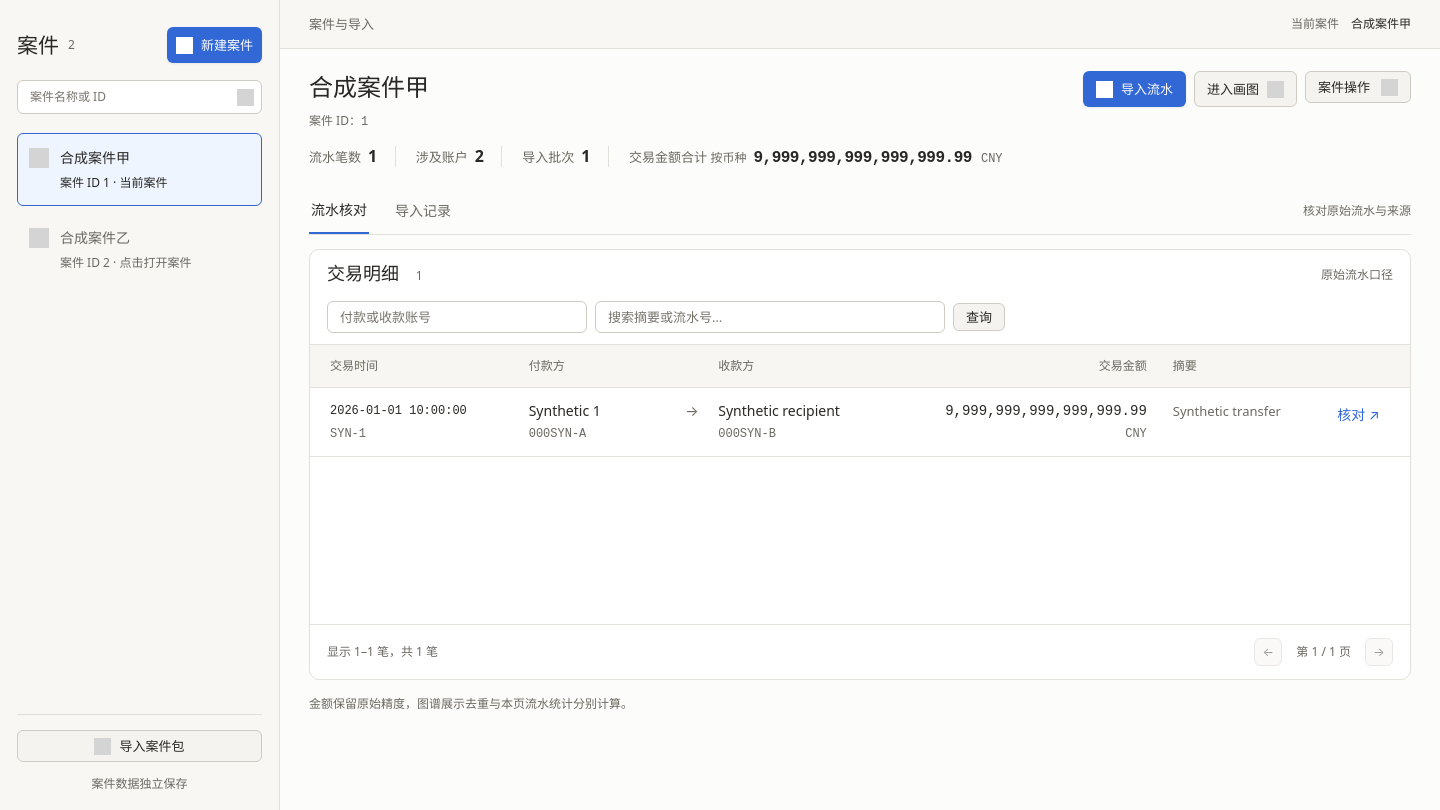
FundsTrace case workspace › executes a free case keyword with its SVG button while IME draft input never filters or opens a case
Expected: the button with aria-label "核对流水 SYN-1" is shown, x1=1335 y1=401 x2=1382 y2=429
Type "乙" into the dropdown named "筛选案件" at (124, 97), box x1=18 y1=81 x2=229 y2=113
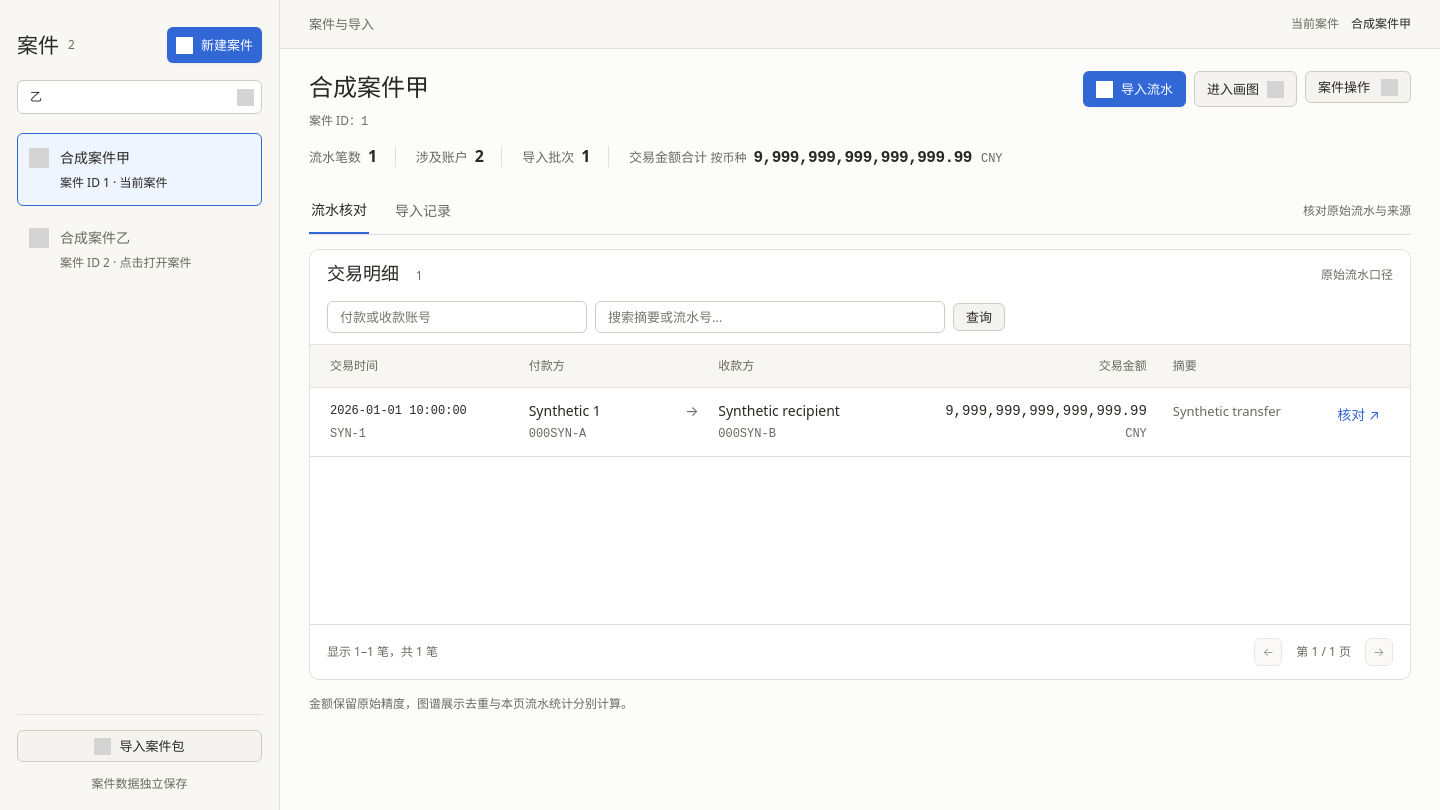
Submit the form named "筛选案件", box x1=17 y1=80 x2=262 y2=114
Expected: the button "合成案件甲 案件 ID 1 · 当前案件" is shown, x1=17 y1=133 x2=262 y2=206
Click the button named "查询案件" at (245, 97), box x1=229 y1=81 x2=261 y2=113
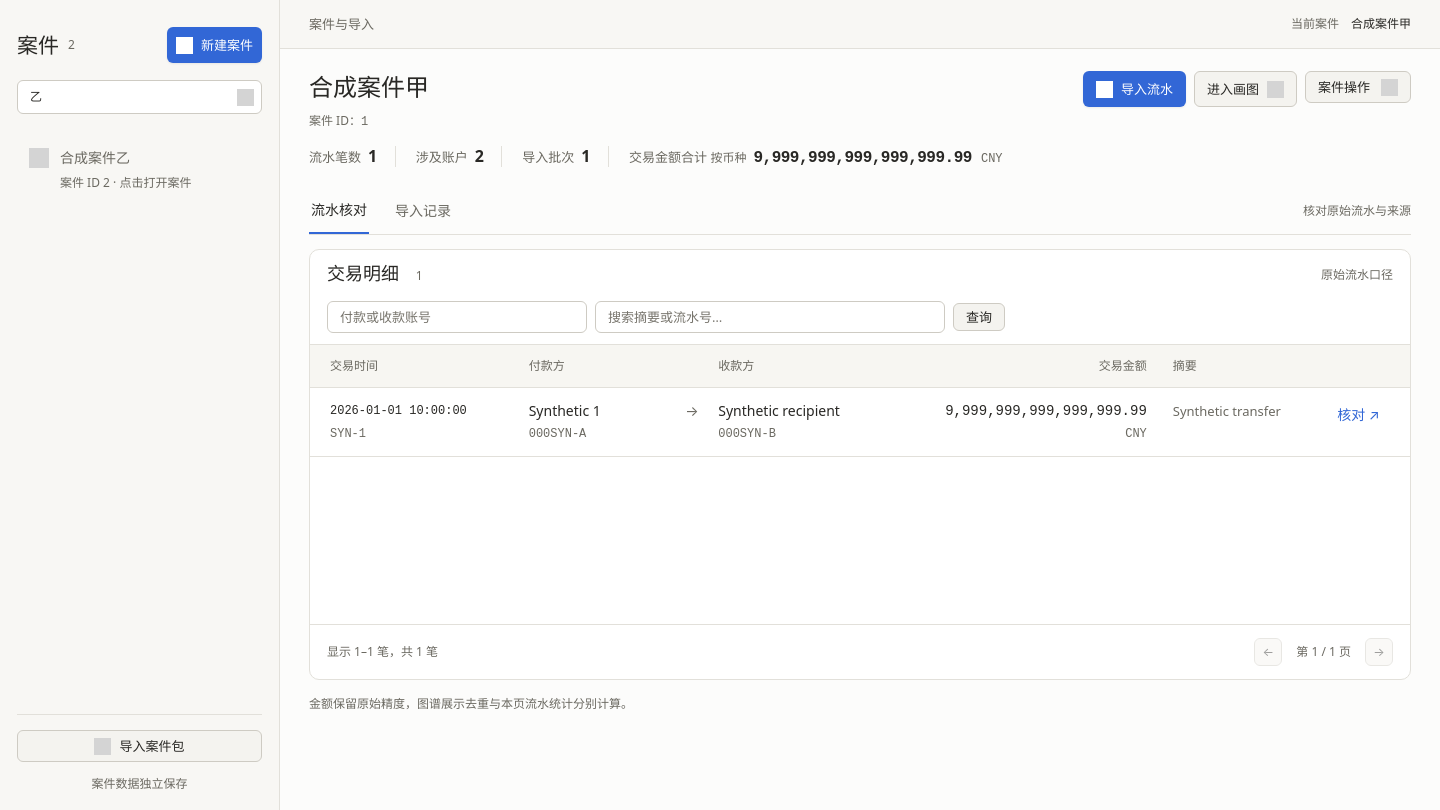
Expected: the button "合成案件乙 案件 ID 2 · 点击打开案件" is shown, x1=17 y1=133 x2=262 y2=206
Expected: the button with aria-label "核对流水 SYN-1" is shown, x1=1335 y1=401 x2=1382 y2=429
Click the button "新建案件" at (214, 45), box x1=167 y1=27 x2=262 y2=63
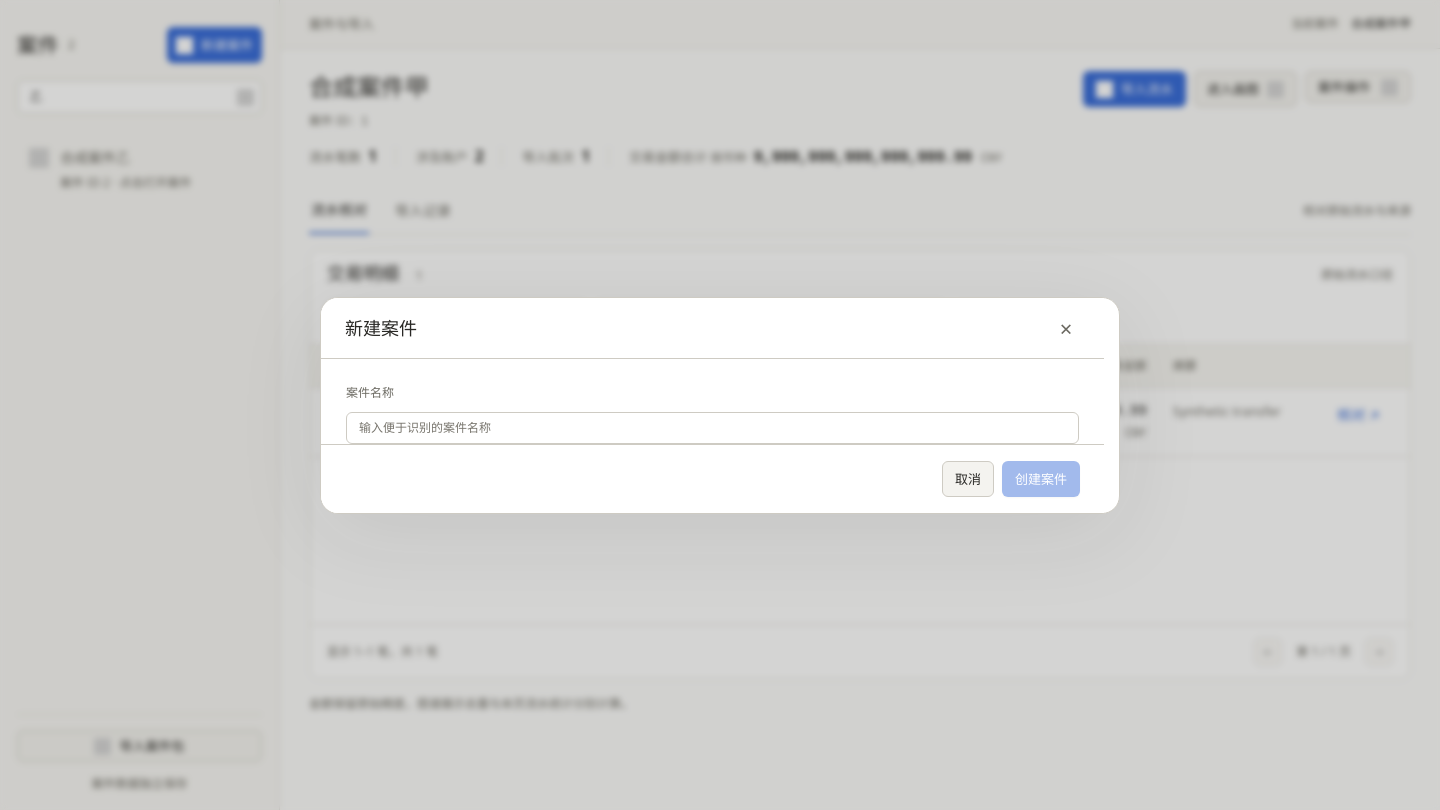
Expected: the field labelled "案件名称" is shown, x1=346 y1=412 x2=1079 y2=444
